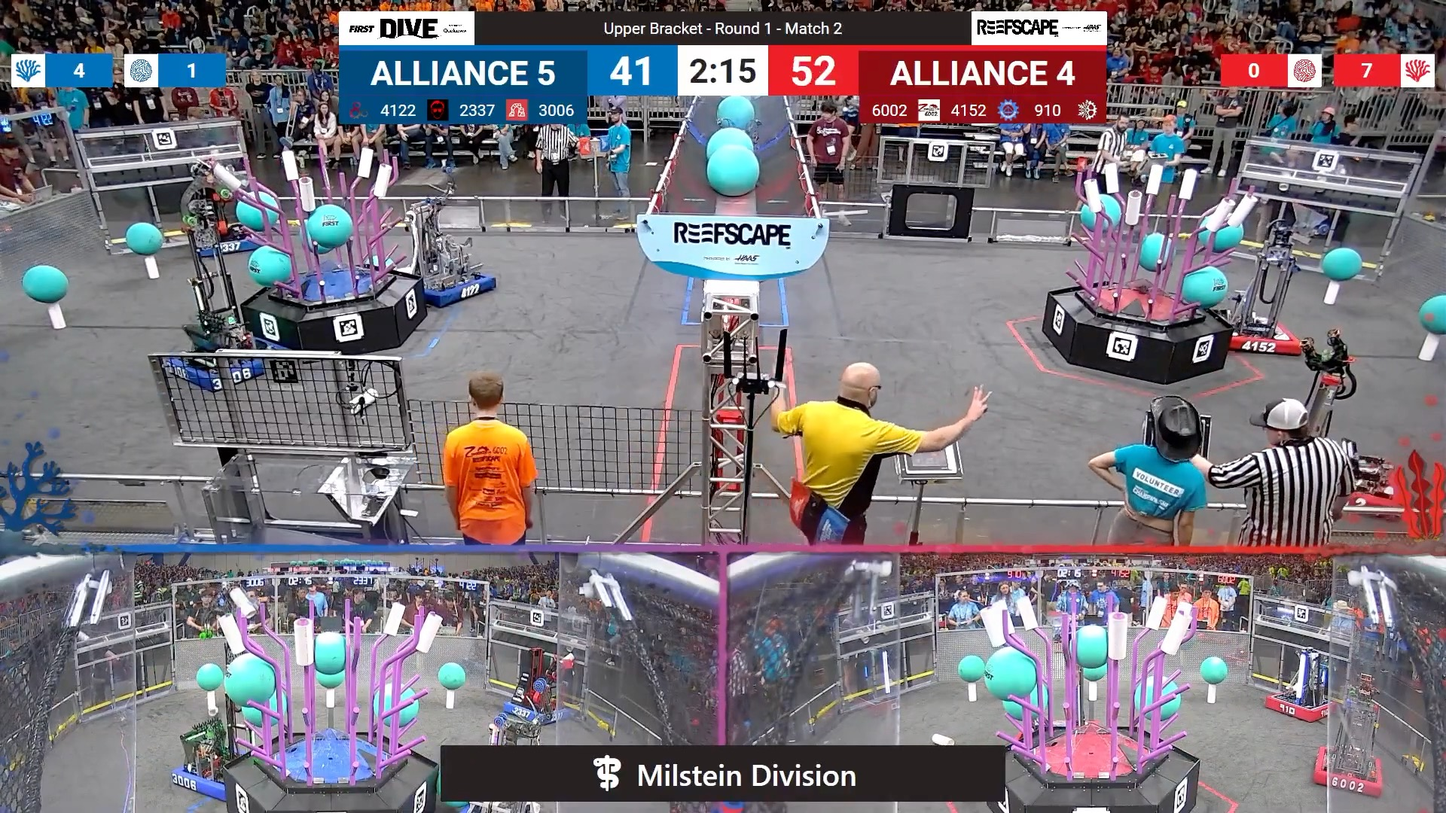bumpers: (163, 344, 277, 392), (395, 260, 504, 308), (1216, 310, 1310, 360), (1307, 742, 1389, 799), (166, 750, 246, 799), (1260, 690, 1340, 726), (499, 696, 574, 729), (185, 234, 267, 258)
